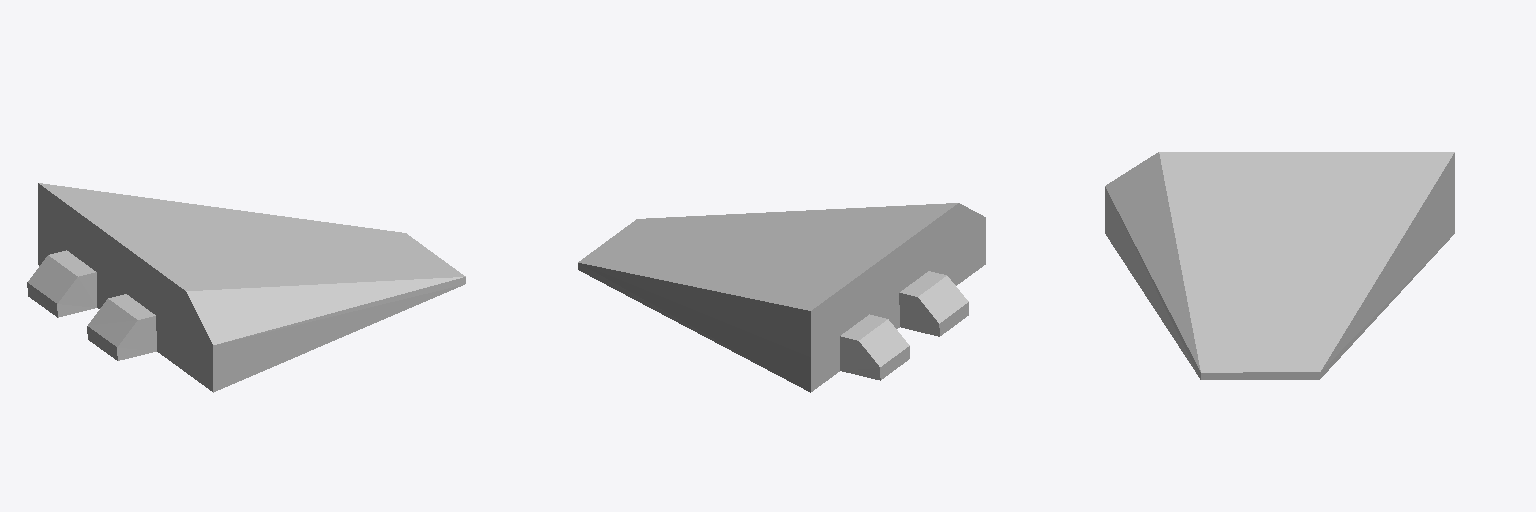
Rendered from EMP-LWingTip.obj.
The picture shows the model from 3 angles: view 1: azimuth 30°, elevation 25°; view 2: azimuth 150°, elevation 25°; view 3: azimuth 270°, elevation 25°; orthographic projection.
Visible parts, largest first — view 1: cylinder1_sep14; view 2: cylinder1_sep14; view 3: cylinder1_sep14.
Boxes of the visible parts, box(x1,y1,x2,y2) form: cylinder1_sep14: box(27, 183, 465, 392); cylinder1_sep14: box(578, 203, 985, 392); cylinder1_sep14: box(1105, 152, 1454, 379).
Bounding box in the file's own units: 14.79 × 3.38 × 13.18.